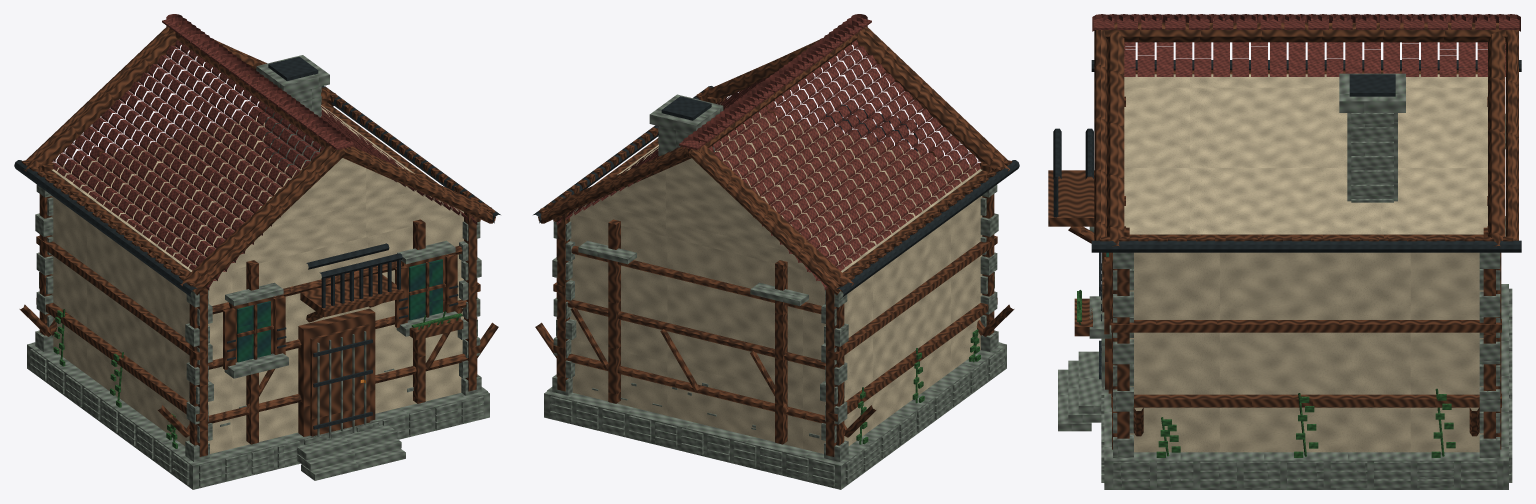
File: windfall-timber-cottage.glb
3 views of the same model, side by side, from view 1: azimuth 30°, elevation 25°; view 2: azimuth 150°, elevation 25°; view 3: azimuth 270°, elevation 25° (orthographic). The views are drawn at different scales.
Visible parts, largest first — view 1: architecture-plaster, architecture-timber, architecture-roof, architecture-stone, architecture-iron, architecture-glass, architecture-leaf; view 2: architecture-plaster, architecture-timber, architecture-roof, architecture-stone, architecture-iron, architecture-leaf; view 3: architecture-plaster, architecture-timber, architecture-stone, architecture-roof, architecture-iron, architecture-leaf.
Part boxes in pixels (box(x1,y1,x2,y2)): architecture-plaster: box(51, 105, 463, 453); architecture-timber: box(19, 25, 498, 456); architecture-roof: box(52, 14, 477, 290); architecture-stone: box(27, 55, 489, 489); architecture-iron: box(14, 56, 500, 429); architecture-glass: box(237, 259, 442, 362); architecture-leaf: box(53, 309, 462, 448); architecture-plaster: box(570, 104, 982, 453); architecture-timber: box(535, 25, 1014, 456); architecture-roof: box(556, 14, 980, 290); architecture-stone: box(544, 94, 1006, 489); architecture-iron: box(533, 86, 1019, 297); architecture-leaf: box(856, 329, 980, 444); architecture-plaster: box(1124, 74, 1487, 452); architecture-timber: box(1048, 22, 1518, 449); architecture-stone: box(1058, 73, 1512, 489); architecture-roof: box(1092, 14, 1520, 76); architecture-iron: box(1053, 60, 1521, 379); architecture-leaf: box(1077, 290, 1455, 457).
Size of the model in its own units: 7.87 by 6.97 by 7.75.
8 materials, 8 textured.
